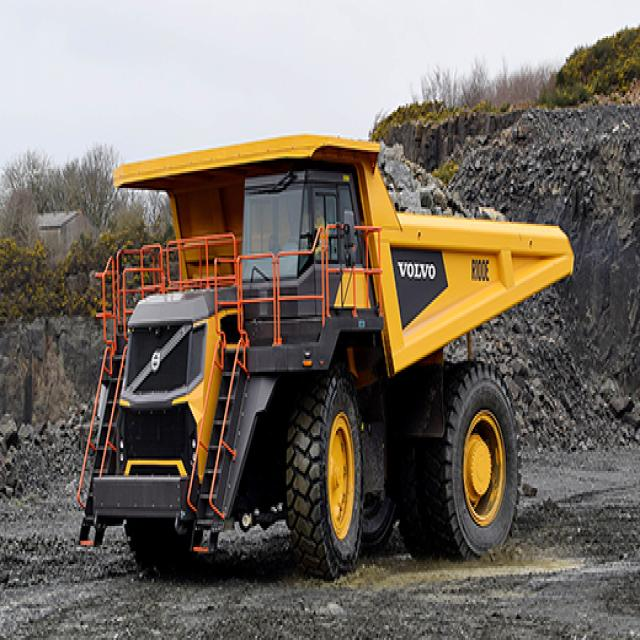dump_truck: (90, 120, 575, 572)
